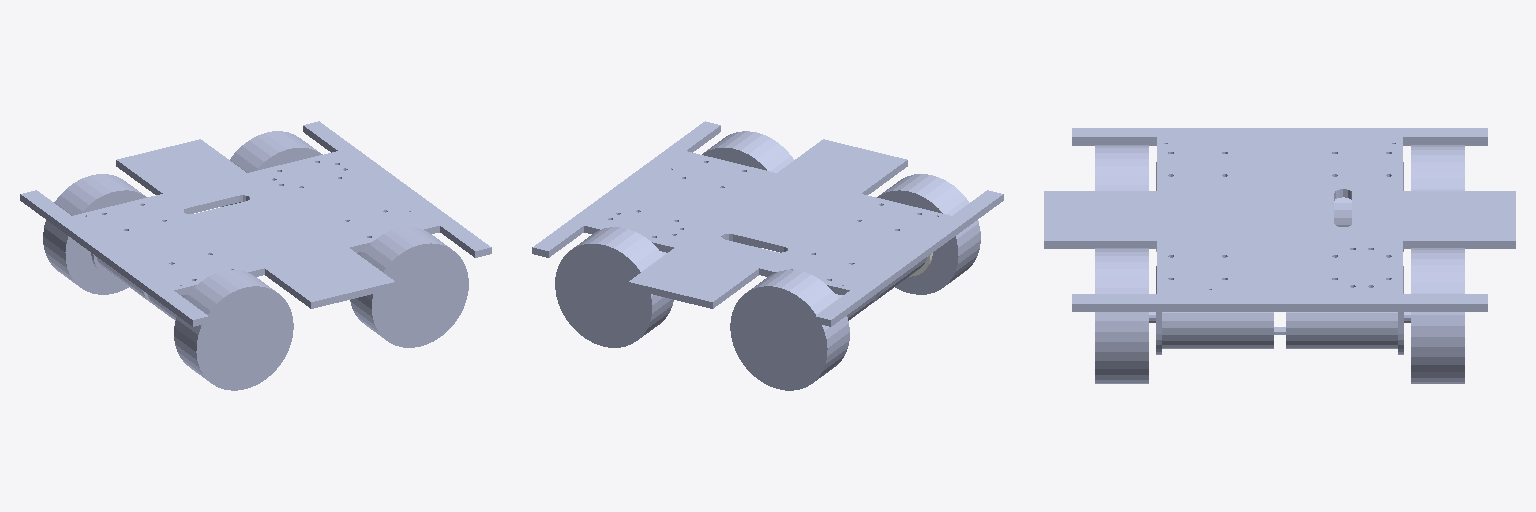
URDF robot description (urdf_try_1):
<?xml version="1.0" encoding="utf-8"?>
<!-- This URDF was automatically created by SolidWorks to URDF Exporter! Originally created by [author] ([email redacted]) 
     Commit Version: 1.6.0-4-g7f85cfe  Build Version: 1.6.7995.38578
     For more information, please see http://wiki.ros.org/sw_urdf_exporter -->
<robot
  name="urdf_try_1">
  <link
    name="base_link">
    <inertial>
      <origin
        xyz="0.115060400545944 -0.115447922845765 -0.0025"
        rpy="0 0 0" />
      <mass
        value="0.205048064278336" />
      <inertia
        ixx="0.000744636102725019"
        ixy="-3.13646252611694E-07"
        ixz="-9.04560815030523E-23"
        iyy="0.000837402621952737"
        iyz="2.53540352214626E-21"
        izz="0.00158118435774326" />
    </inertial>
    <visual>
      <origin
        xyz="0 0 0"
        rpy="0 0 0" />
      <geometry>
        <mesh
          filename="package://urdf_try_1/meshes/base_link.STL" />
      </geometry>
      <material
        name="">
        <color
          rgba="0.792156862745098 0.819607843137255 0.933333333333333 1" />
      </material>
    </visual>
    <collision>
      <origin
        xyz="0 0 0"
        rpy="0 0 0" />
      <geometry>
        <mesh
          filename="package://urdf_try_1/meshes/base_link.STL" />
      </geometry>
    </collision>
  </link>
  <link
    name="lf_bracket_link">
    <inertial>
      <origin
        xyz="-0.02 0.025986763677896 -0.00990787914229635"
        rpy="0 0 0" />
      <mass
        value="0.00833672226393641" />
      <inertia
        ixx="2.98092057068024E-06"
        ixy="-7.41612608992847E-22"
        ixz="4.30983900644287E-22"
        iyy="2.5814430021137E-06"
        iyz="8.42085226413098E-07"
        izz="2.70784033899702E-06" />
    </inertial>
    <visual>
      <origin
        xyz="0 0 0"
        rpy="0 0 0" />
      <geometry>
        <mesh
          filename="package://urdf_try_1/meshes/lf_bracket_link.STL" />
      </geometry>
      <material
        name="">
        <color
          rgba="0.792156862745098 0.819607843137255 0.933333333333333 1" />
      </material>
    </visual>
    <collision>
      <origin
        xyz="0 0 0"
        rpy="0 0 0" />
      <geometry>
        <mesh
          filename="package://urdf_try_1/meshes/lf_bracket_link.STL" />
      </geometry>
    </collision>
  </link>
  <joint
    name="lf_bracket_join"
    type="fixed">
    <origin
      xyz="0.2025 -0.08625 -0.005"
      rpy="0 0 0" />
    <parent
      link="base_link" />
    <child
      link="lf_bracket_link" />
    <axis
      xyz="0 0 0" />
  </joint>
  <link
    name="lf_DCmotor_link">
    <inertial>
      <origin
        xyz="-0.0035 0.031837 -0.01"
        rpy="0 0 0" />
      <mass
        value="0.064538" />
      <inertia
        ixx="2.7927E-05"
        ixy="-2.3139E-21"
        ixz="2.4025E-22"
        iyy="1.0166E-05"
        iyz="2.865E-21"
        izz="2.7916E-05" />
    </inertial>
    <visual>
      <origin
        xyz="0 0 0"
        rpy="0 0 0" />
      <geometry>
        <mesh
          filename="package://urdf_try_1/meshes/lf_DCmotor_link.STL" />
      </geometry>
      <material
        name="">
        <color
          rgba="0.79216 0.81961 0.93333 1" />
      </material>
    </visual>
    <collision>
      <origin
        xyz="0 0 0"
        rpy="0 0 0" />
      <geometry>
        <mesh
          filename="package://urdf_try_1/meshes/lf_DCmotor_link.STL" />
      </geometry>
    </collision>
  </link>
  <joint
    name="lf_DCmotor_join"
    type="fixed">
    <origin
      xyz="-0.0165 -0.0256 -0.0146"
      rpy="0 0 0" />
    <parent
      link="lf_bracket_link" />
    <child
      link="lf_DCmotor_link" />
    <axis
      xyz="0 0 0" />
  </joint>
  <link
    name="lf_wheel_link">
    <inertial>
      <origin
        xyz="1.11022302462516E-16 -0.0149570892186662 0"
        rpy="0 0 0" />
      <mass
        value="0.131781957836458" />
      <inertia
        ixx="5.64750546860615E-05"
        ixy="-5.55353366772088E-21"
        ixz="-1.68196837805002E-21"
        iyy="9.31833010061579E-05"
        iyz="2.03038431756179E-21"
        izz="5.64750546860616E-05" />
    </inertial>
    <visual>
      <origin
        xyz="0 0 0"
        rpy="0 0 0" />
      <geometry>
        <mesh
          filename="package://urdf_try_1/meshes/lf_wheel_link.STL" />
      </geometry>
      <material
        name="">
        <color
          rgba="0.792156862745098 0.819607843137255 0.933333333333333 1" />
      </material>
    </visual>
    <collision>
      <origin
        xyz="0 0 0"
        rpy="0 0 0" />
      <geometry>
        <mesh
          filename="package://urdf_try_1/meshes/lf_wheel_link.STL" />
      </geometry>
    </collision>
  </link>
  <joint
    name="lf_wheel_join"
    type="continuous">
    <origin
      xyz="-0.0035 0.0992 -0.01"
      rpy="0 0 0" />
    <parent
      link="lf_DCmotor_link" />
    <child
      link="lf_wheel_link" />
    <axis
      xyz="0 1 0" />
  </joint>
  <link
    name="lb_bracket_link">
    <inertial>
      <origin
        xyz="0.02 0.025986763677896 -0.00990787914229634"
        rpy="0 0 0" />
      <mass
        value="0.00833672226393639" />
      <inertia
        ixx="2.98092057068024E-06"
        ixy="-4.55595242922701E-22"
        ixz="2.49362026391E-22"
        iyy="2.5814430021137E-06"
        iyz="8.42085226413098E-07"
        izz="2.70784033899702E-06" />
    </inertial>
    <visual>
      <origin
        xyz="0 0 0"
        rpy="0 0 0" />
      <geometry>
        <mesh
          filename="package://urdf_try_1/meshes/lb_bracket_link.STL" />
      </geometry>
      <material
        name="">
        <color
          rgba="0.792156862745098 0.819607843137255 0.933333333333333 1" />
      </material>
    </visual>
    <collision>
      <origin
        xyz="0 0 0"
        rpy="0 0 0" />
      <geometry>
        <mesh
          filename="package://urdf_try_1/meshes/lb_bracket_link.STL" />
      </geometry>
    </collision>
  </link>
  <joint
    name="lb_bracket_join"
    type="fixed">
    <origin
      xyz="0.0275 -0.08625 -0.005"
      rpy="0 0 0" />
    <parent
      link="base_link" />
    <child
      link="lb_bracket_link" />
    <axis
      xyz="0 0 0" />
  </joint>
  <link
    name="lb_DCmotor_link">
    <inertial>
      <origin
        xyz="0.0035 0.031837 -0.01"
        rpy="0 0 0" />
      <mass
        value="0.064538" />
      <inertia
        ixx="2.7927E-05"
        ixy="-1.1842E-21"
        ixz="1.8111E-22"
        iyy="1.0166E-05"
        iyz="2.8924E-21"
        izz="2.7916E-05" />
    </inertial>
    <visual>
      <origin
        xyz="0 0 0"
        rpy="0 0 0" />
      <geometry>
        <mesh
          filename="package://urdf_try_1/meshes/lb_DCmotor_link.STL" />
      </geometry>
      <material
        name="">
        <color
          rgba="0.79216 0.81961 0.93333 1" />
      </material>
    </visual>
    <collision>
      <origin
        xyz="0 0 0"
        rpy="0 0 0" />
      <geometry>
        <mesh
          filename="package://urdf_try_1/meshes/lb_DCmotor_link.STL" />
      </geometry>
    </collision>
  </link>
  <joint
    name="lb_DCmotor_join"
    type="fixed">
    <origin
      xyz="0.0165000000000002 -0.0256 -0.0146"
      rpy="0 0 0" />
    <parent
      link="lb_bracket_link" />
    <child
      link="lb_DCmotor_link" />
    <axis
      xyz="0 0 0" />
  </joint>
  <link
    name="lb_wheel_link">
    <inertial>
      <origin
        xyz="-2.77555756156289E-17 -0.0149570892186649 0"
        rpy="0 0 0" />
      <mass
        value="0.131781957836458" />
      <inertia
        ixx="5.64750546860615E-05"
        ixy="2.39861413140954E-22"
        ixz="-8.34935430795748E-22"
        iyy="9.31833010061579E-05"
        iyz="2.4554189164289E-21"
        izz="5.64750546860616E-05" />
    </inertial>
    <visual>
      <origin
        xyz="0 0 0"
        rpy="0 0 0" />
      <geometry>
        <mesh
          filename="package://urdf_try_1/meshes/lb_wheel_link.STL" />
      </geometry>
      <material
        name="">
        <color
          rgba="0.792156862745098 0.819607843137255 0.933333333333333 1" />
      </material>
    </visual>
    <collision>
      <origin
        xyz="0 0 0"
        rpy="0 0 0" />
      <geometry>
        <mesh
          filename="package://urdf_try_1/meshes/lb_wheel_link.STL" />
      </geometry>
    </collision>
  </link>
  <joint
    name="lb_wheel_join"
    type="continuous">
    <origin
      xyz="0.0035 0.0992 -0.01"
      rpy="0 0 0" />
    <parent
      link="lb_DCmotor_link" />
    <child
      link="lb_wheel_link" />
    <axis
      xyz="0 1 0" />
  </joint>
  <link
    name="rf_bracket_link">
    <inertial>
      <origin
        xyz="-0.02 -0.025987 -0.0099079"
        rpy="0 0 0" />
      <mass
        value="0.0083367" />
      <inertia
        ixx="2.9809E-06"
        ixy="2.7262E-21"
        ixz="3.5803E-21"
        iyy="2.5814E-06"
        iyz="-8.4209E-07"
        izz="2.7078E-06" />
    </inertial>
    <visual>
      <origin
        xyz="0 0 0"
        rpy="0 0 0" />
      <geometry>
        <mesh
          filename="package://urdf_try_1/meshes/rf_bracket_link.STL" />
      </geometry>
      <material
        name="">
        <color
          rgba="0.79216 0.81961 0.93333 1" />
      </material>
    </visual>
    <collision>
      <origin
        xyz="0 0 0"
        rpy="0 0 0" />
      <geometry>
        <mesh
          filename="package://urdf_try_1/meshes/rf_bracket_link.STL" />
      </geometry>
    </collision>
  </link>
  <joint
    name="rf_bracket_join"
    type="fixed">
    <origin
      xyz="0.2025 -0.14375 -0.00499999999999998"
      rpy="0 0 0" />
    <parent
      link="base_link" />
    <child
      link="rf_bracket_link" />
    <axis
      xyz="0 0 0" />
  </joint>
  <link
    name="rf_DCmotor_link">
    <inertial>
      <origin
        xyz="-0.0035 -0.031837 -0.01"
        rpy="0 0 0" />
      <mass
        value="0.064538" />
      <inertia
        ixx="2.7927E-05"
        ixy="-2.3576E-21"
        ixz="-2.4525E-22"
        iyy="1.0166E-05"
        iyz="-7.2302E-22"
        izz="2.7916E-05" />
    </inertial>
    <visual>
      <origin
        xyz="0 0 0"
        rpy="0 0 0" />
      <geometry>
        <mesh
          filename="package://urdf_try_1/meshes/rf_DCmotor_link.STL" />
      </geometry>
      <material
        name="">
        <color
          rgba="0.79216 0.81961 0.93333 1" />
      </material>
    </visual>
    <collision>
      <origin
        xyz="0 0 0"
        rpy="0 0 0" />
      <geometry>
        <mesh
          filename="package://urdf_try_1/meshes/rf_DCmotor_link.STL" />
      </geometry>
    </collision>
  </link>
  <joint
    name="rf_DCmotor_join"
    type="fixed">
    <origin
      xyz="-0.0165000000000001 0.0256 -0.0146"
      rpy="0 0 0" />
    <parent
      link="rf_bracket_link" />
    <child
      link="rf_DCmotor_link" />
    <axis
      xyz="0 0 0" />
  </joint>
  <link
    name="rf_wheel_link">
    <inertial>
      <origin
        xyz="5.5511E-17 0.014957 0"
        rpy="0 0 0" />
      <mass
        value="0.13178" />
      <inertia
        ixx="5.6475E-05"
        ixy="1.4555E-21"
        ixz="6.8695E-21"
        iyy="9.3183E-05"
        iyz="-1.2048E-21"
        izz="5.6475E-05" />
    </inertial>
    <visual>
      <origin
        xyz="0 0 0"
        rpy="0 0 0" />
      <geometry>
        <mesh
          filename="package://urdf_try_1/meshes/rf_wheel_link.STL" />
      </geometry>
      <material
        name="">
        <color
          rgba="0.79216 0.81961 0.93333 1" />
      </material>
    </visual>
    <collision>
      <origin
        xyz="0 0 0"
        rpy="0 0 0" />
      <geometry>
        <mesh
          filename="package://urdf_try_1/meshes/rf_wheel_link.STL" />
      </geometry>
    </collision>
  </link>
  <joint
    name="rf_wheel_join"
    type="continuous">
    <origin
      xyz="-0.0035 -0.0992 -0.01"
      rpy="0 0 0" />
    <parent
      link="rf_DCmotor_link" />
    <child
      link="rf_wheel_link" />
    <axis
      xyz="0 -1 0" />
  </joint>
  <link
    name="rb_bracket_join">
    <inertial>
      <origin
        xyz="0 0 0"
        rpy="0 0 0" />
      <mass
        value="0" />
      <inertia
        ixx="0"
        ixy="0"
        ixz="0"
        iyy="0"
        iyz="0"
        izz="0" />
    </inertial>
    <visual>
      <origin
        xyz="0 0 0"
        rpy="0 0 0" />
      <geometry>
        <mesh
          filename="package://urdf_try_1/meshes/rb_bracket_join.STL" />
      </geometry>
      <material
        name="">
        <color
          rgba="1 1 1 1" />
      </material>
    </visual>
    <collision>
      <origin
        xyz="0 0 0"
        rpy="0 0 0" />
      <geometry>
        <mesh
          filename="package://urdf_try_1/meshes/rb_bracket_join.STL" />
      </geometry>
    </collision>
  </link>
  <joint
    name="rb_bracket_link"
    type="fixed">
    <origin
      xyz="0.0274999999999996 -0.14375 -0.00499999999999999"
      rpy="0 0 0" />
    <parent
      link="base_link" />
    <child
      link="rb_bracket_join" />
    <axis
      xyz="0 0 0" />
  </joint>
  <link
    name="rb_DCmotor_link">
    <inertial>
      <origin
        xyz="0.0035 -0.031837 -0.01"
        rpy="0 0 0" />
      <mass
        value="0.064538" />
      <inertia
        ixx="2.7927E-05"
        ixy="-2.3574E-21"
        ixz="-2.4528E-22"
        iyy="1.0166E-05"
        iyz="-7.0849E-22"
        izz="2.7916E-05" />
    </inertial>
    <visual>
      <origin
        xyz="0 0 0"
        rpy="0 0 0" />
      <geometry>
        <mesh
          filename="package://urdf_try_1/meshes/rb_DCmotor_link.STL" />
      </geometry>
      <material
        name="">
        <color
          rgba="0.79216 0.81961 0.93333 1" />
      </material>
    </visual>
    <collision>
      <origin
        xyz="0 0 0"
        rpy="0 0 0" />
      <geometry>
        <mesh
          filename="package://urdf_try_1/meshes/rb_DCmotor_link.STL" />
      </geometry>
    </collision>
  </link>
  <joint
    name="rb_DCmotor_join"
    type="fixed">
    <origin
      xyz="0.0165 0.0256 -0.0146"
      rpy="0 0 0" />
    <parent
      link="rb_bracket_join" />
    <child
      link="rb_DCmotor_link" />
    <axis
      xyz="0 0 0" />
  </joint>
  <link
    name="rb_wheel_link">
    <inertial>
      <origin
        xyz="0 0.014957 0"
        rpy="0 0 0" />
      <mass
        value="0.13178" />
      <inertia
        ixx="5.6475E-05"
        ixy="1.4555E-21"
        ixz="6.8695E-21"
        iyy="9.3183E-05"
        iyz="-1.1518E-21"
        izz="5.6475E-05" />
    </inertial>
    <visual>
      <origin
        xyz="0 0 0"
        rpy="0 0 0" />
      <geometry>
        <mesh
          filename="package://urdf_try_1/meshes/rb_wheel_link.STL" />
      </geometry>
      <material
        name="">
        <color
          rgba="0.79216 0.81961 0.93333 1" />
      </material>
    </visual>
    <collision>
      <origin
        xyz="0 0 0"
        rpy="0 0 0" />
      <geometry>
        <mesh
          filename="package://urdf_try_1/meshes/rb_wheel_link.STL" />
      </geometry>
    </collision>
  </link>
  <joint
    name="rb_wheel_join"
    type="continuous">
    <origin
      xyz="0.0035 -0.0992 -0.01"
      rpy="0 0 0" />
    <parent
      link="rb_DCmotor_link" />
    <child
      link="rb_wheel_link" />
    <axis
      xyz="0 -1 0" />
  </joint>
</robot>

--- Render facts (derived) ---
3 views of the same robot in one strip: view 1: azimuth 30°, elevation 25°; view 2: azimuth 150°, elevation 25°; view 3: azimuth 270°, elevation 25° (orthographic).
Robot: urdf_try_1 — 13 links, 12 joints (4 continuous, 8 fixed); root link base_link; default pose: all joints at 0.
Links seen in each view (by area): view 1: base_link, rb_wheel_link, rf_wheel_link, lb_wheel_link, lf_wheel_link; view 2: base_link, lb_wheel_link, lf_wheel_link, rb_wheel_link, rf_wheel_link; view 3: base_link, lf_wheel_link, rf_wheel_link, lf_DCmotor_link, rf_DCmotor_link, lb_wheel_link, rb_wheel_link.
Boxes of the visible links, x1,y1,x2,y2 form: base_link: (20, 121, 491, 326); rb_wheel_link: (174, 270, 293, 390); rf_wheel_link: (350, 227, 468, 347); lb_wheel_link: (43, 174, 146, 294); lf_wheel_link: (222, 131, 322, 206); base_link: (532, 121, 1003, 326); lb_wheel_link: (730, 270, 849, 390); lf_wheel_link: (555, 227, 673, 347); rb_wheel_link: (877, 174, 980, 294); rf_wheel_link: (702, 131, 793, 247); base_link: (1044, 128, 1515, 311); lf_wheel_link: (1411, 248, 1464, 383); rf_wheel_link: (1095, 248, 1148, 383); lf_DCmotor_link: (1277, 312, 1410, 348); rf_DCmotor_link: (1149, 312, 1282, 348); lb_wheel_link: (1411, 145, 1464, 190); rb_wheel_link: (1095, 145, 1148, 190).
Size in the robot's own frame: 0.23 by 0.26 by 0.0749 metres.
13 mesh visuals loaded from 13 distinct referenced files (13 binary STL).